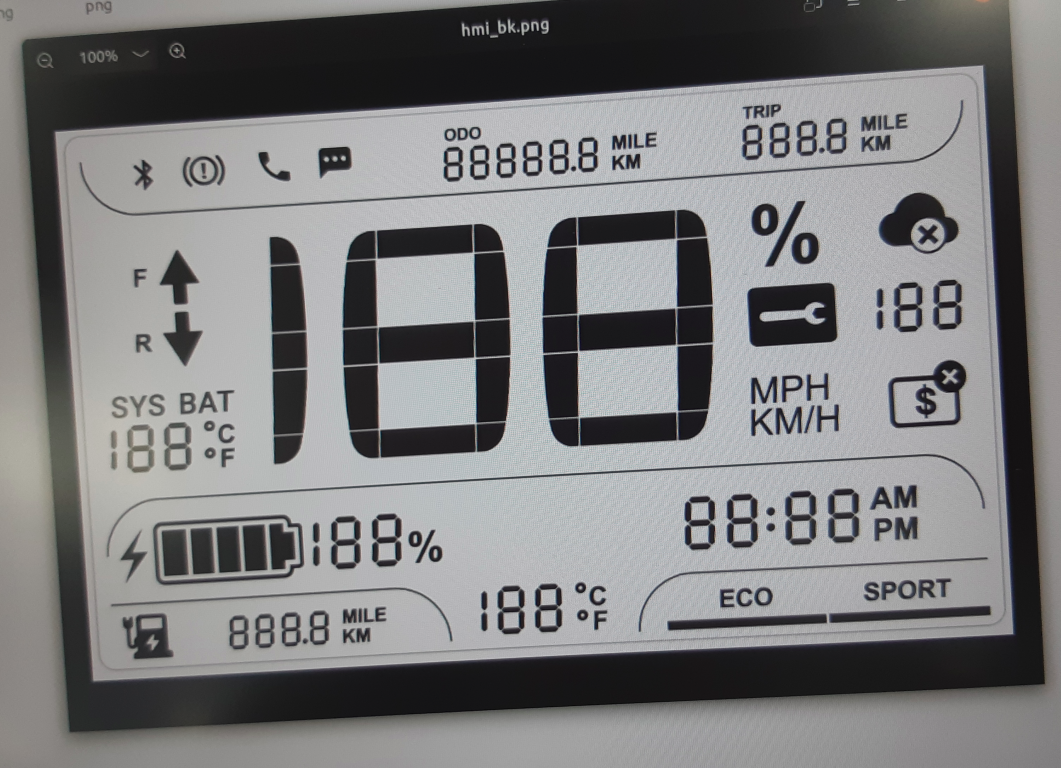bluetooth_on: (126, 154, 161, 192)
braking_on: (178, 150, 228, 192)
calling_on: (251, 146, 296, 187)
connection_lost: (873, 188, 965, 257)
error_code: (743, 280, 839, 350)
low_battery: (118, 608, 180, 665)
sms_on: (312, 142, 356, 184)
vin_id: (883, 355, 972, 431)
